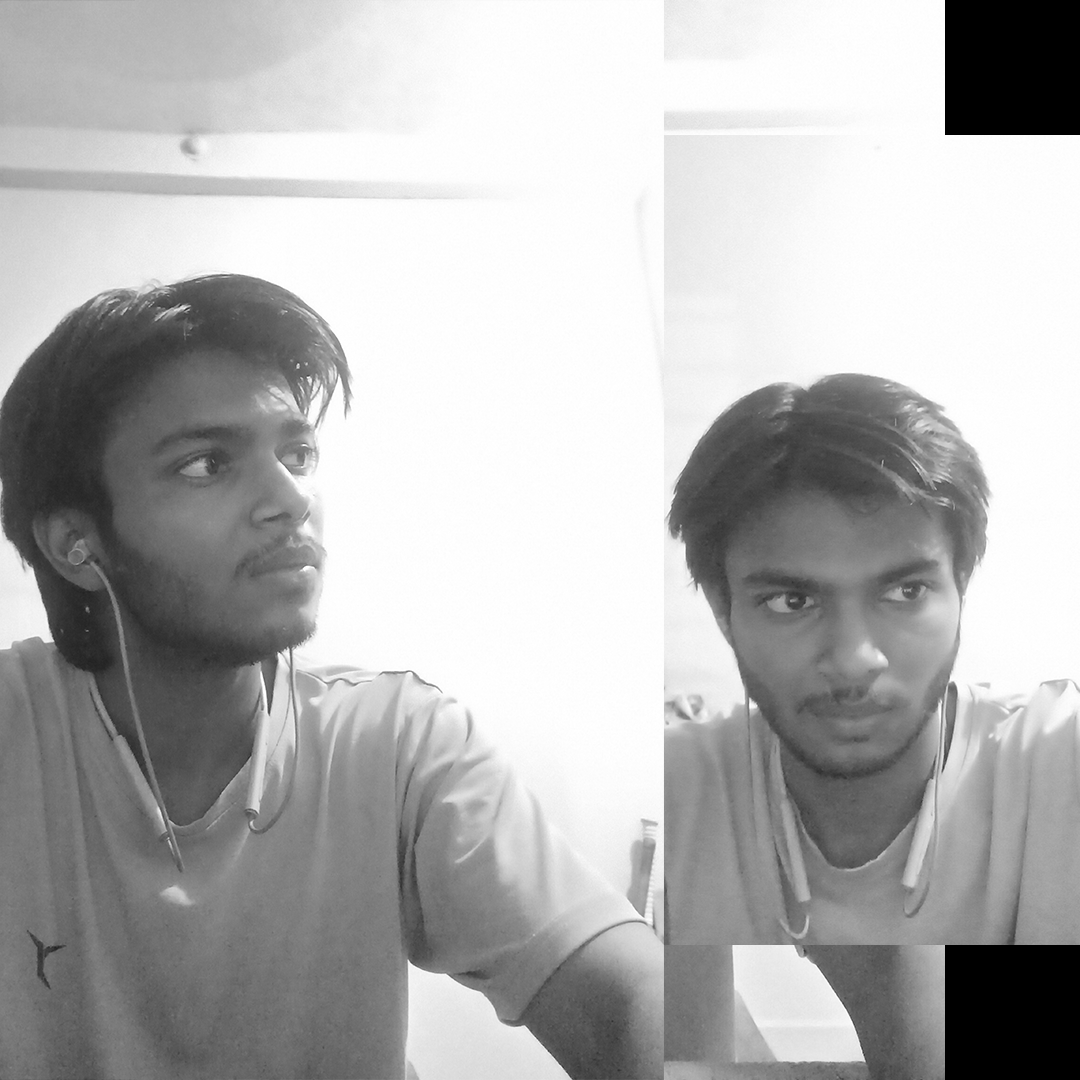Focused: (682, 357, 1029, 916)
distracted: (4, 224, 516, 925)
